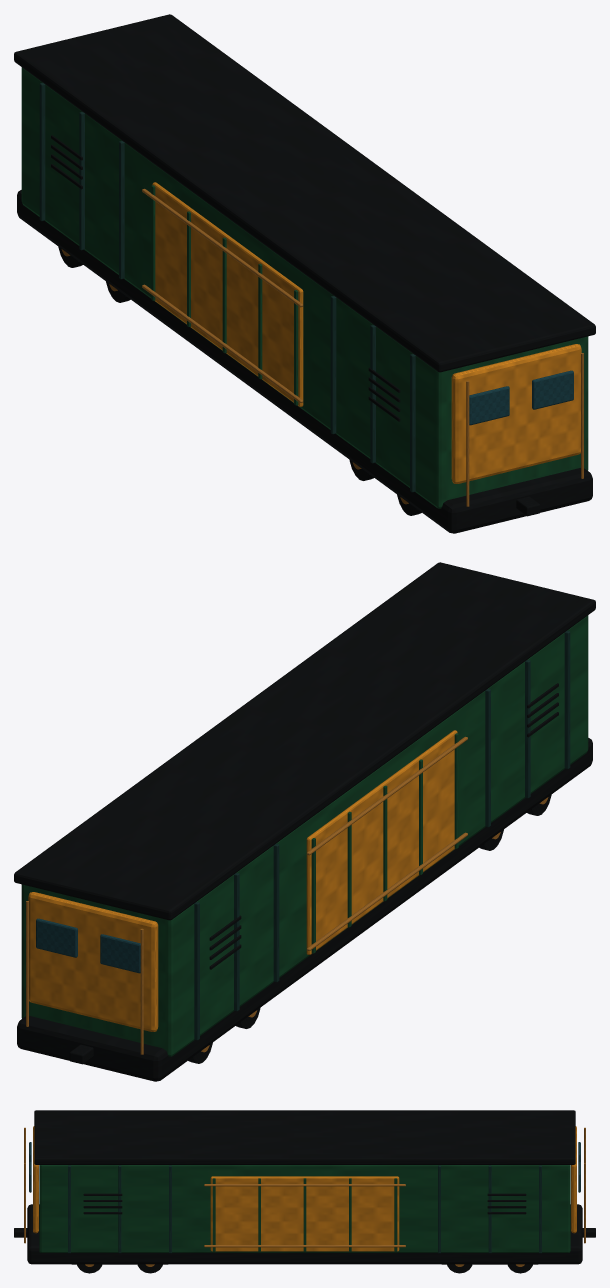
Rendered from train-parcels-v1-B-gQaAS6.glb.
3 views of the same model, one above another, from view 1: azimuth 30°, elevation 25°; view 2: azimuth 150°, elevation 25°; view 3: azimuth 270°, elevation 25° (orthographic). The views are drawn at different scales.
Parts seen in each view (by area): view 1: Coach underframe, Tall parcel car body, Large sliding parcel door, Vertical steel cargo rib, Wheel hub, Cab inspection window; view 2: Coach underframe, Tall parcel car body, Large sliding parcel door, Vertical steel cargo rib, Wheel hub, Cab inspection window; view 3: Coach underframe, Tall parcel car body, Large sliding parcel door, Wheel hub, Vertical steel cargo rib, Cab inspection window.
Boxes of the visible parts, x1=… form: Coach underframe: x1=14, y1=14, x2=595, y2=533; Tall parcel car body: x1=21, y1=67, x2=588, y2=508; Large sliding parcel door: x1=152, y1=182, x2=581, y2=483; Vertical steel cargo rib: x1=39, y1=82, x2=415, y2=492; Wheel hub: x1=61, y1=188, x2=583, y2=506; Cab inspection window: x1=469, y1=370, x2=573, y2=425; Coach underframe: x1=14, y1=562, x2=595, y2=1081; Tall parcel car body: x1=21, y1=615, x2=588, y2=1056; Large sliding parcel door: x1=28, y1=730, x2=457, y2=1031; Vertical steel cargo rib: x1=194, y1=630, x2=570, y2=1040; Wheel hub: x1=26, y1=736, x2=548, y2=1054; Cab inspection window: x1=36, y1=918, x2=140, y2=973; Coach underframe: x1=14, y1=1110, x2=595, y2=1273; Tall parcel car body: x1=39, y1=1165, x2=570, y2=1252; Large sliding parcel door: x1=33, y1=1126, x2=576, y2=1251; Wheel hub: x1=24, y1=1127, x2=585, y2=1266; Vertical steel cargo rib: x1=68, y1=1165, x2=541, y2=1253; Cab inspection window: x1=29, y1=1142, x2=580, y2=1192.
Bounding box in the file's own units: 3.68 × 3.88 × 17.3.
Materials: 6 (6 with a texture image).
